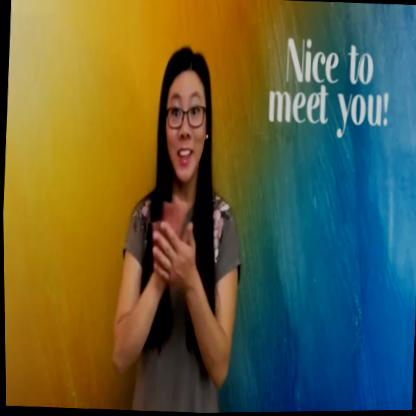NiceToMeetYou: (125, 191, 208, 311)
